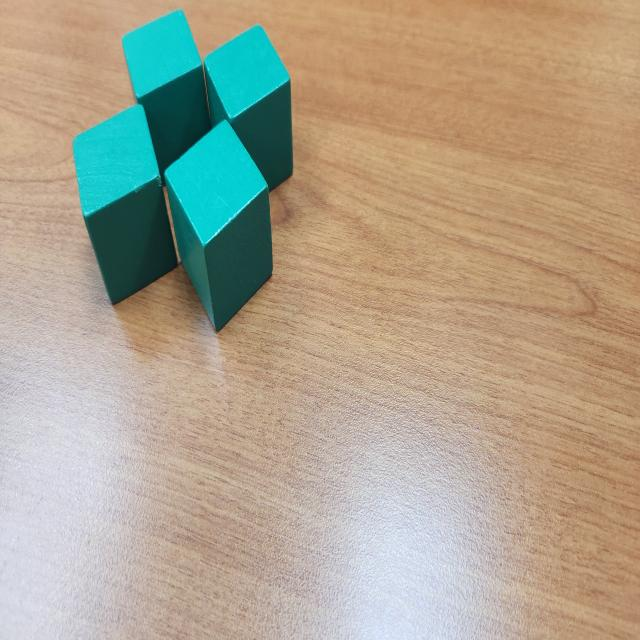green: (163, 119, 274, 333), (72, 104, 180, 306), (120, 9, 212, 186), (202, 24, 294, 194)
